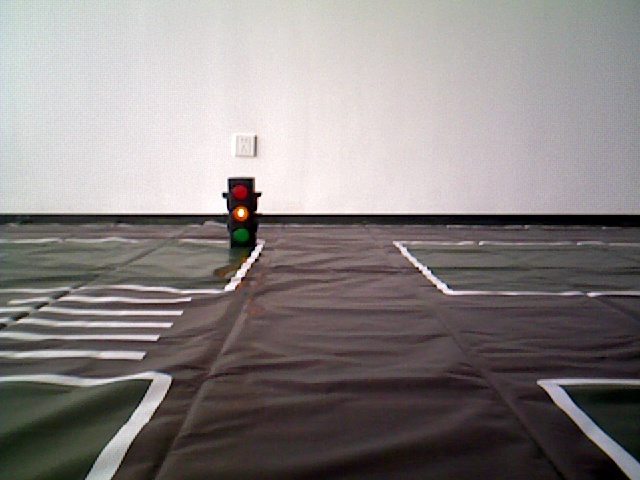yellow: (221, 179, 261, 246)
